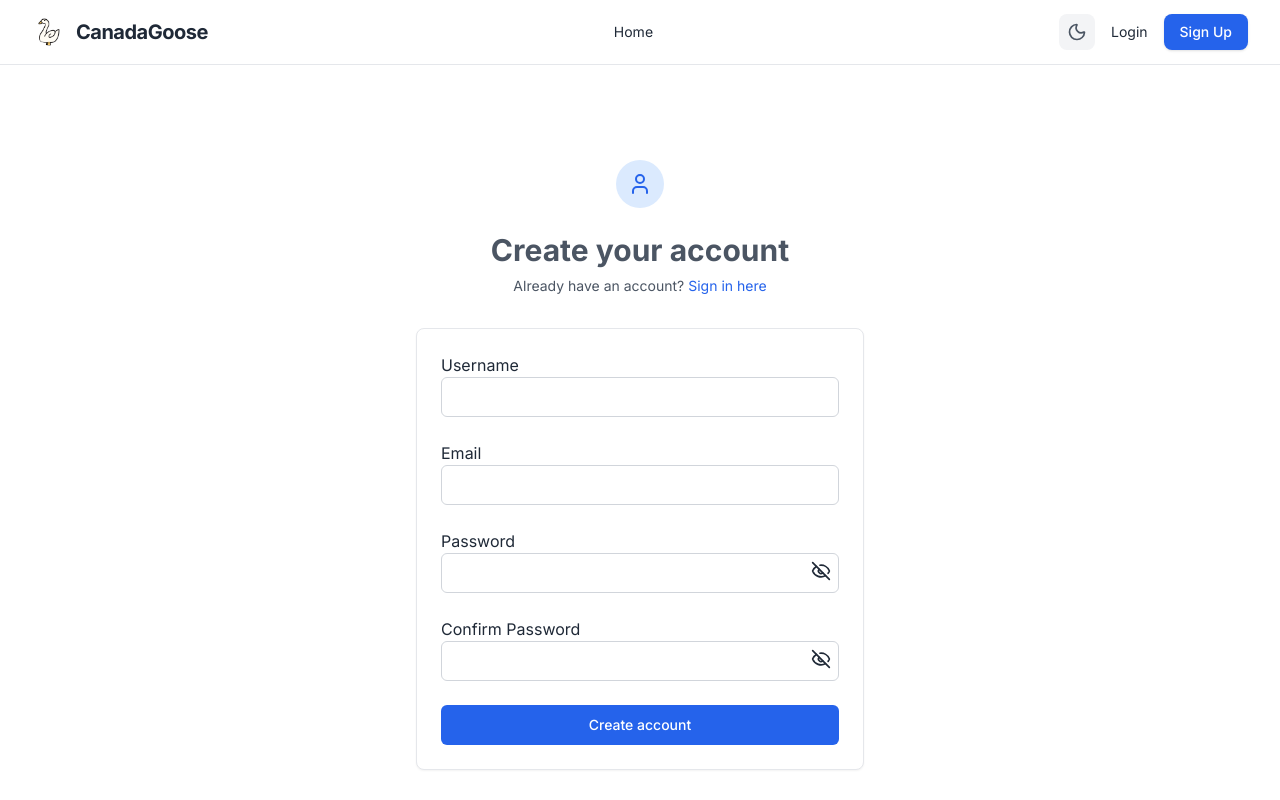
Test case: Signup Page › validates required fields
The width and height of the screenshot is (1280, 800).
Click the button with test id "submit-button": x=640, y=725 x1=441 y1=705 x2=839 y2=745
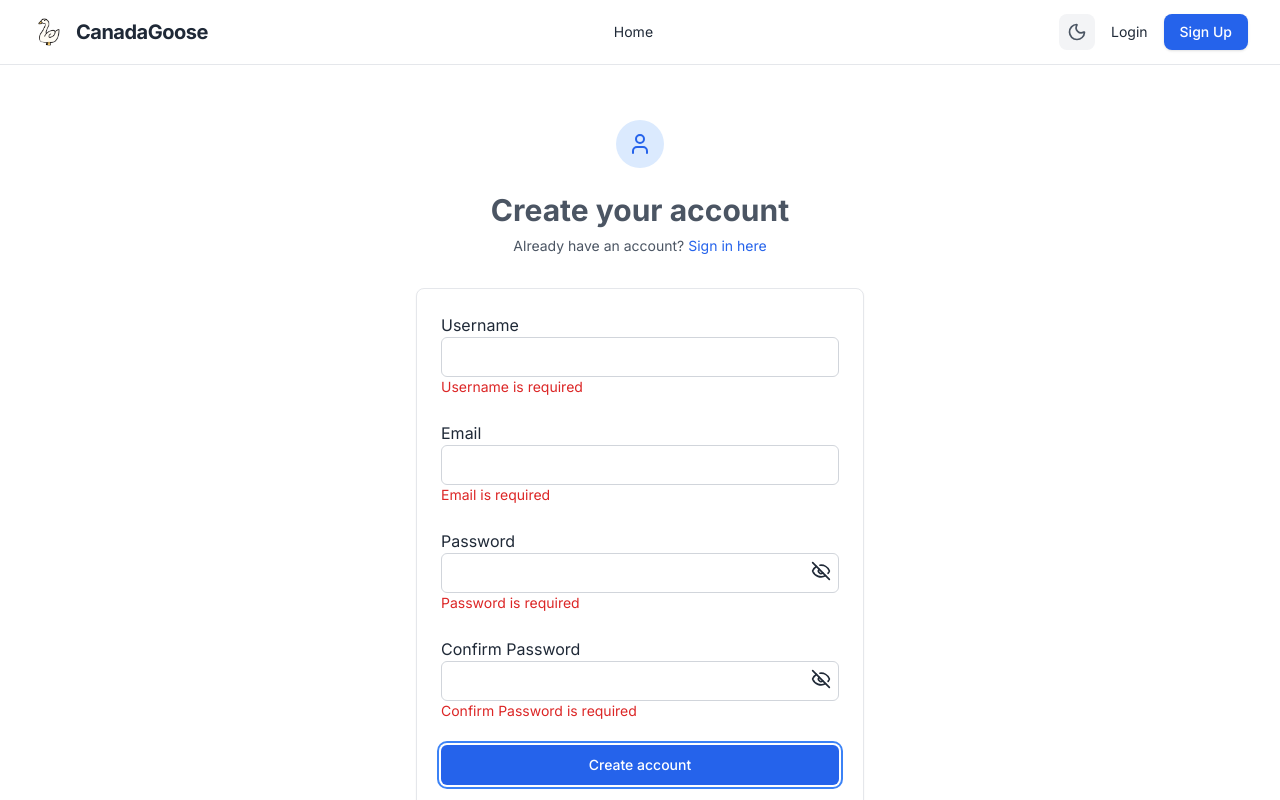
Result: the text with test id "username-error" reads "Username is required" at x1=441 y1=378 x2=583 y2=395
Result: the text with test id "email-error" reads "Email is required" at x1=441 y1=486 x2=550 y2=503
Result: the text with test id "password-error" reads "Password is required" at x1=441 y1=594 x2=580 y2=611
